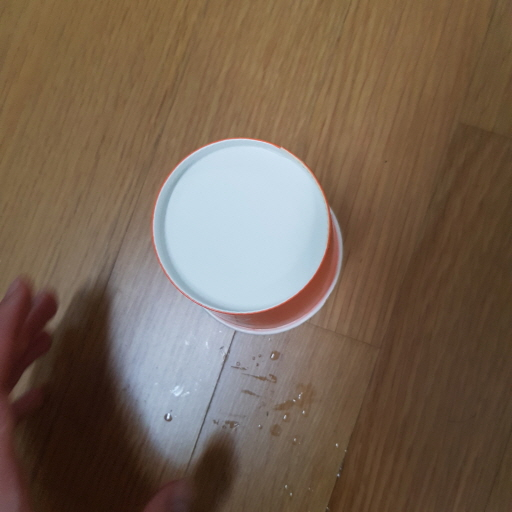Paper_1: (151, 134, 349, 336)
